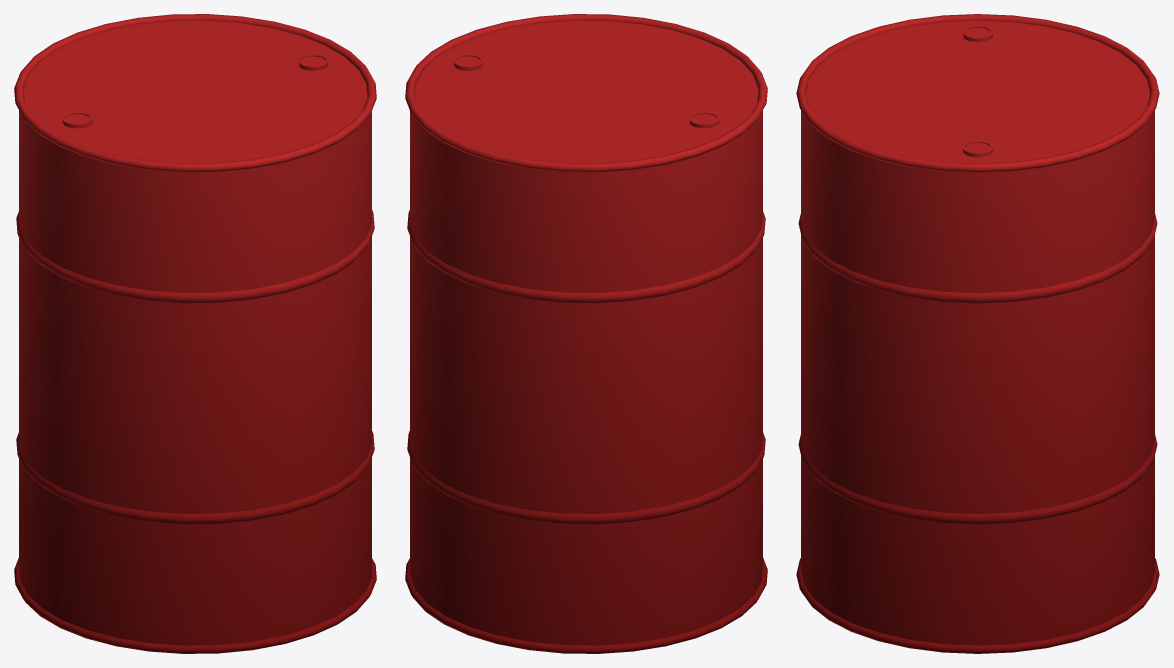
File: barrel_02_medium_red.glb
3 views of the same model, side by side, from view 1: azimuth 30°, elevation 25°; view 2: azimuth 150°, elevation 25°; view 3: azimuth 270°, elevation 25° (orthographic).
Parts seen in each view (by area): view 1: barrel_02_medium_red; view 2: barrel_02_medium_red; view 3: barrel_02_medium_red.
Boxes of the visible parts, x1,y1,x2,y2 form: barrel_02_medium_red: [14, 14, 376, 653]; barrel_02_medium_red: [405, 14, 767, 653]; barrel_02_medium_red: [796, 14, 1159, 653].
Bounding box in the file's own units: 0.519 × 0.77 × 0.519.
Materials: 1 (1 with a texture image).
